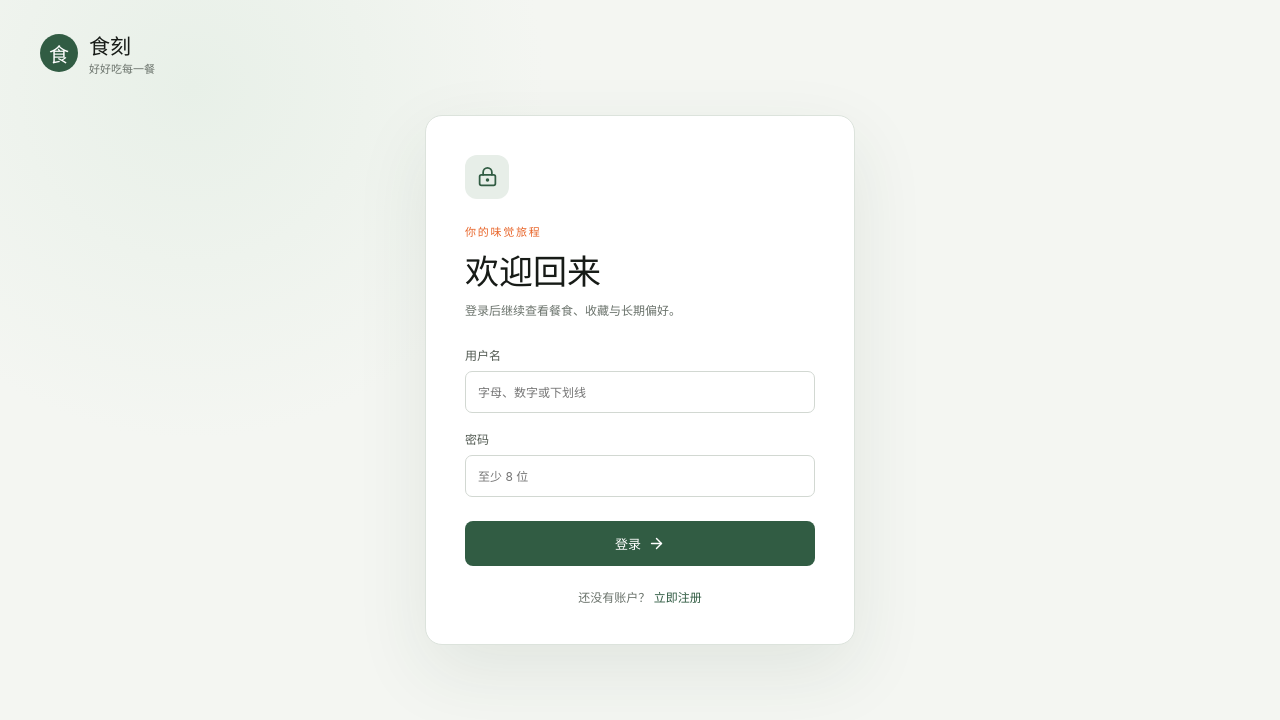
Test: 登录与公共库角色界面 › 正确登录后进入应用并保存 JWT
The width and height of the screenshot is (1280, 720).
Type "ordinary" into the field labelled "用户名" at (640, 392), box [465, 371, 815, 413]
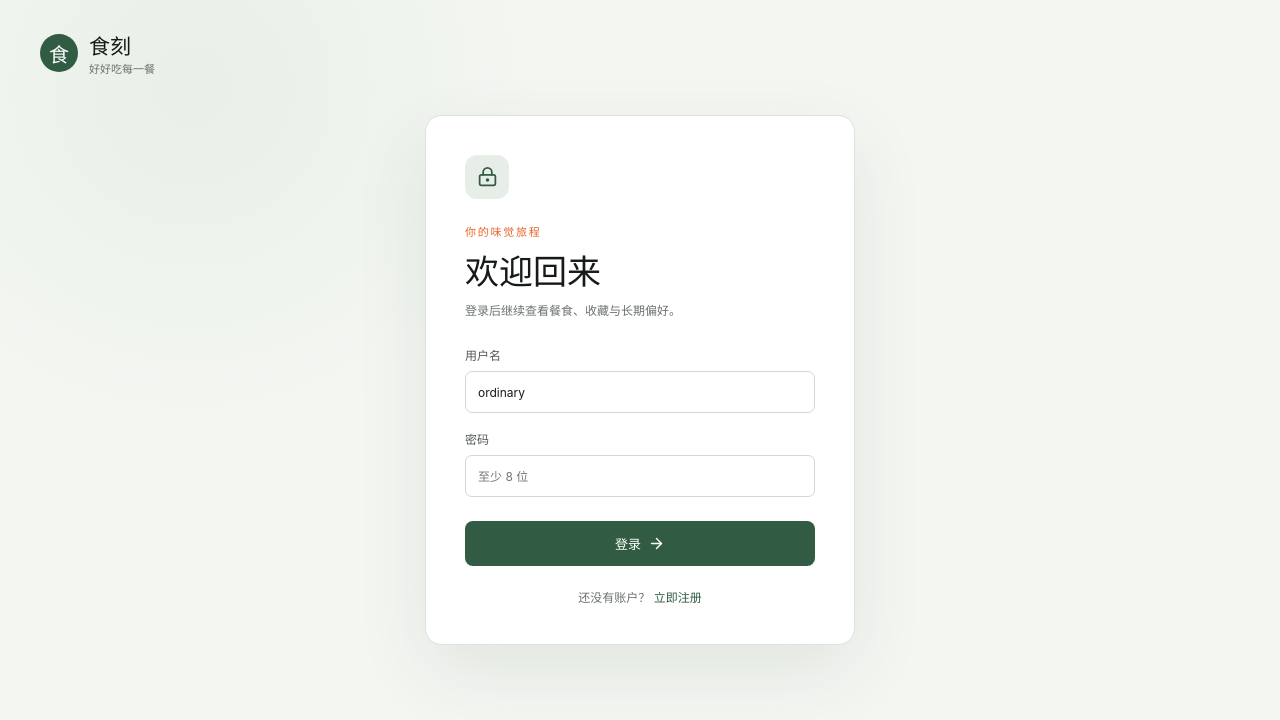
Type "password123" into the password field labelled "密码" at (640, 476), box [465, 455, 815, 497]
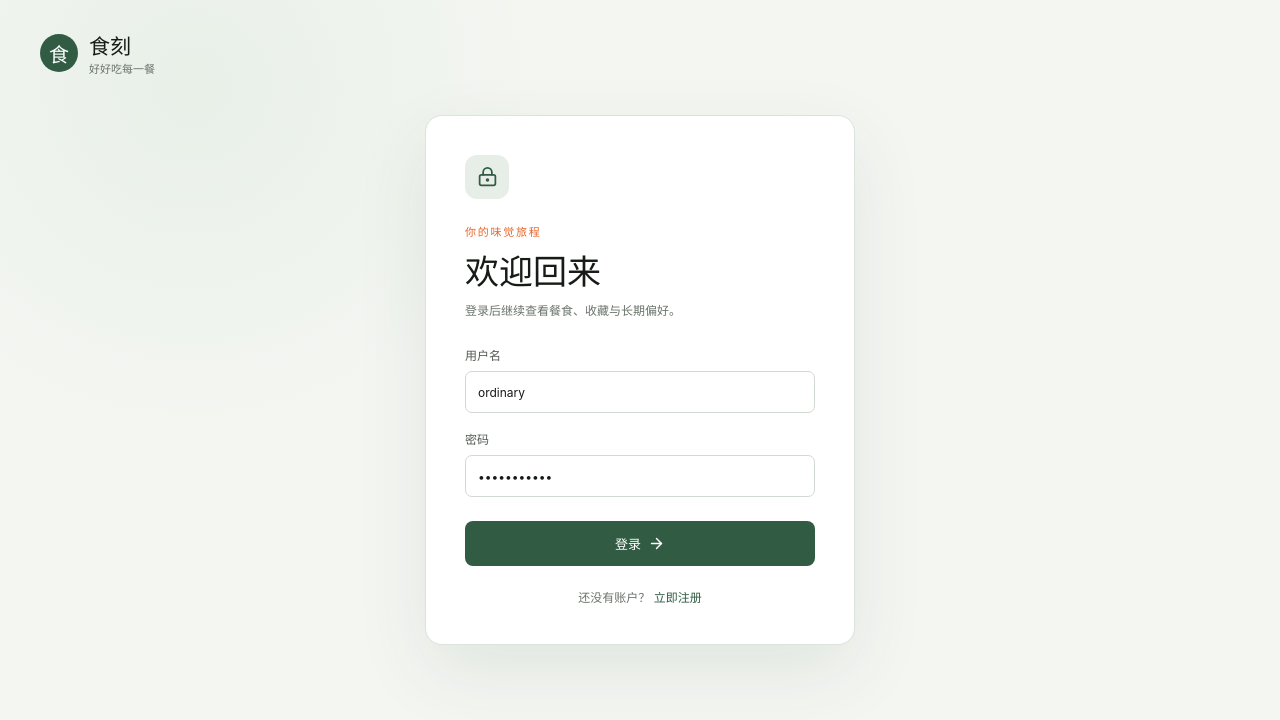
Click the button "登录" at (640, 544), box [465, 521, 815, 566]
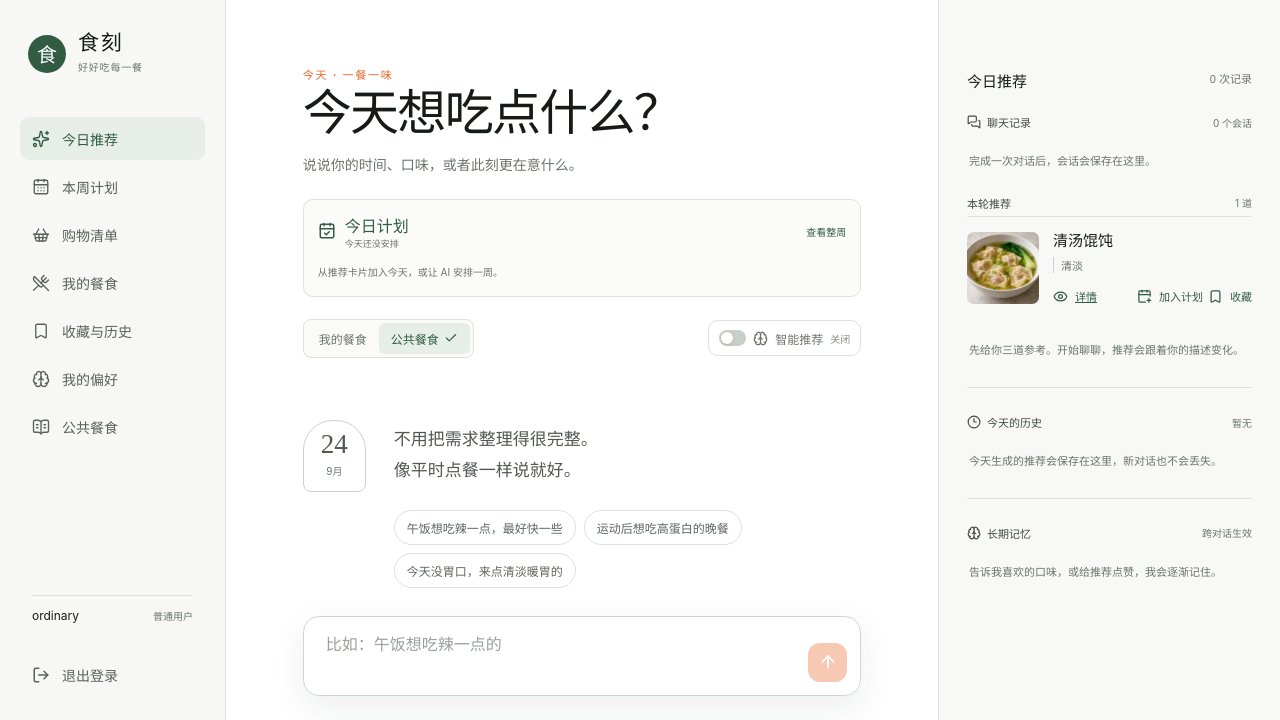
expect the text "ordinary" is shown: met, box [32, 608, 79, 623]
